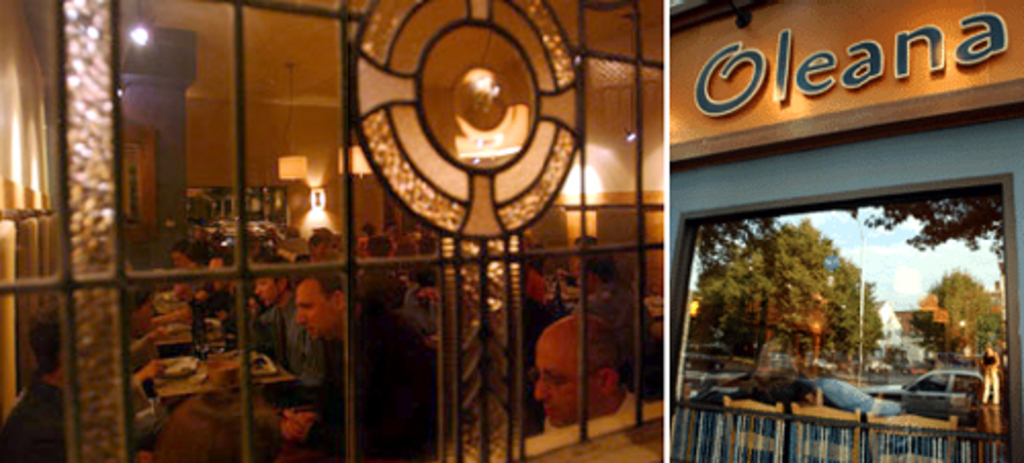Car: (860, 370, 987, 417)
